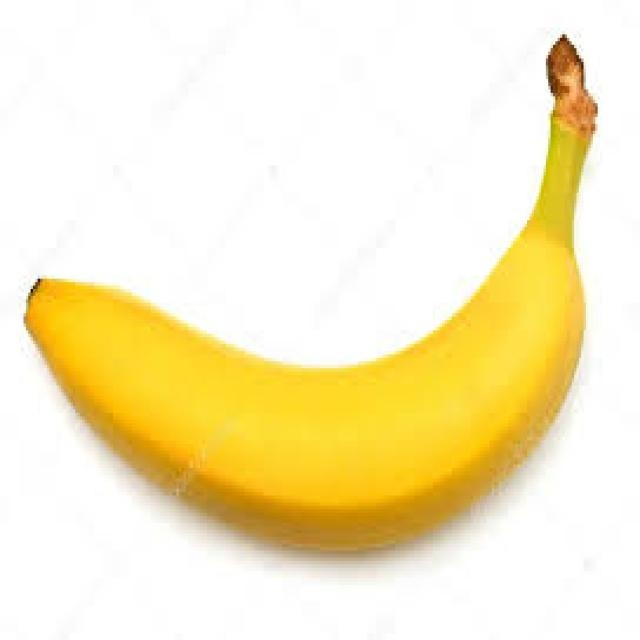agrume: (26, 68, 598, 556)
